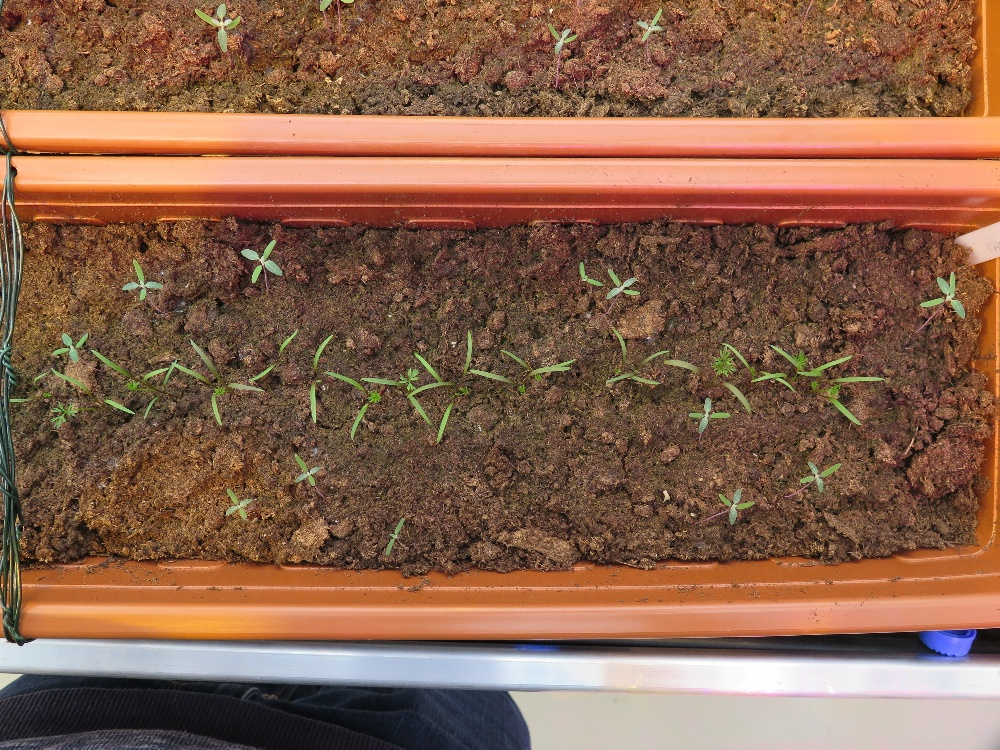crop: (573, 308, 698, 417), (173, 333, 291, 447), (373, 347, 487, 458), (280, 329, 368, 445), (89, 345, 191, 442), (446, 329, 571, 408)
weed: (234, 238, 312, 297), (573, 258, 657, 311), (121, 251, 177, 324), (916, 272, 980, 333), (612, 6, 693, 49), (41, 320, 102, 370), (196, 1, 243, 56), (705, 479, 762, 524), (539, 13, 591, 58), (802, 458, 848, 497), (312, 1, 368, 31), (221, 488, 257, 529), (377, 513, 416, 547), (296, 454, 323, 497)
